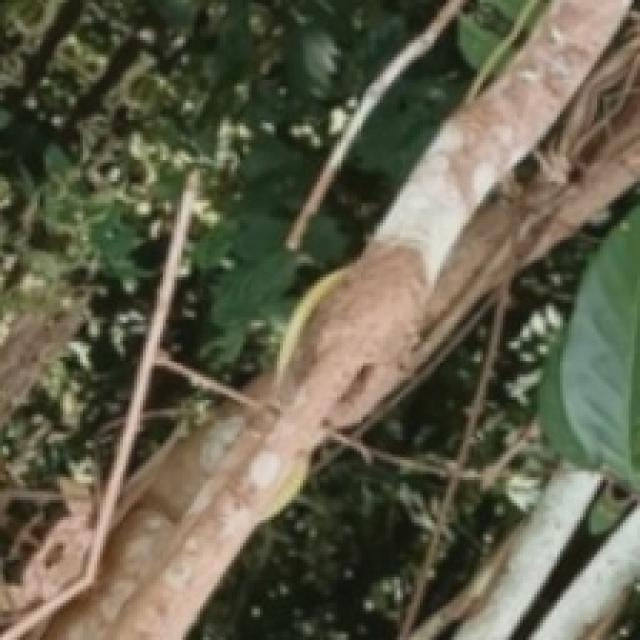paradise tree snake: (43, 0, 637, 637)
